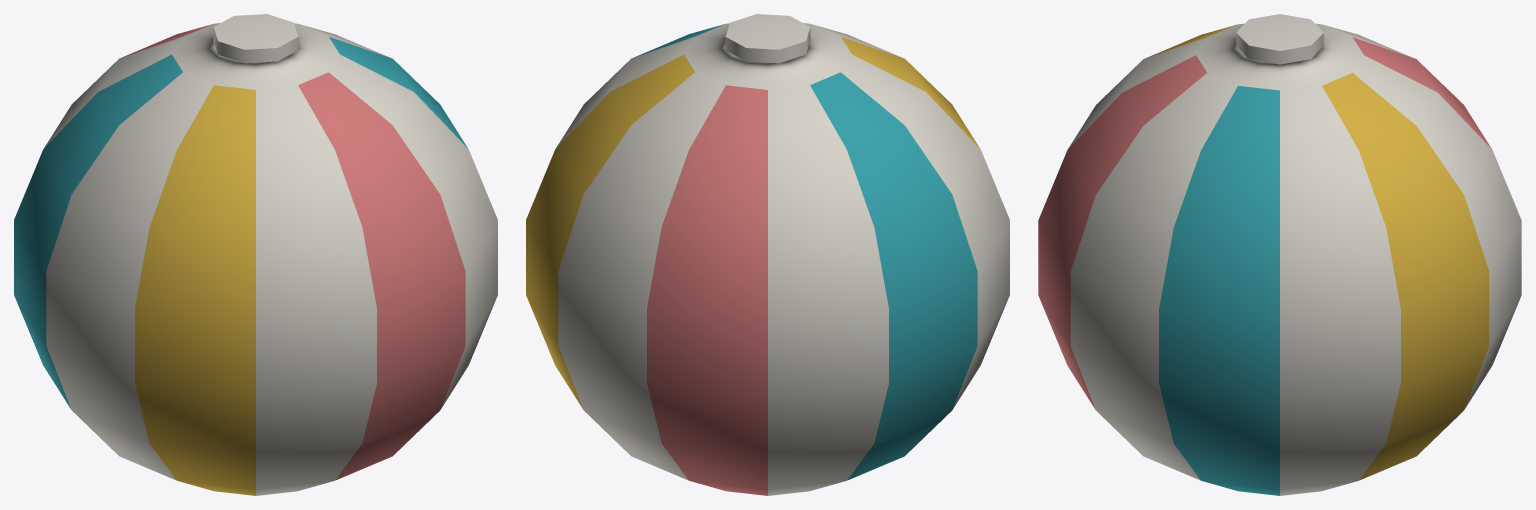
File: beach-ball-b.glb
3 renders of one model, left to right at view 1: azimuth 30°, elevation 25°; view 2: azimuth 150°, elevation 25°; view 3: azimuth 270°, elevation 25°, orthographic.
Visible parts, largest first — view 1: beach-ball-b; view 2: beach-ball-b; view 3: beach-ball-b.
Part boxes in pixels (x1,y1,x2,y2): beach-ball-b: (14,14,497,495); beach-ball-b: (526,14,1009,495); beach-ball-b: (1038,14,1521,495).
Size of the model in its own units: 0.5515 by 0.5592 by 0.5515.
